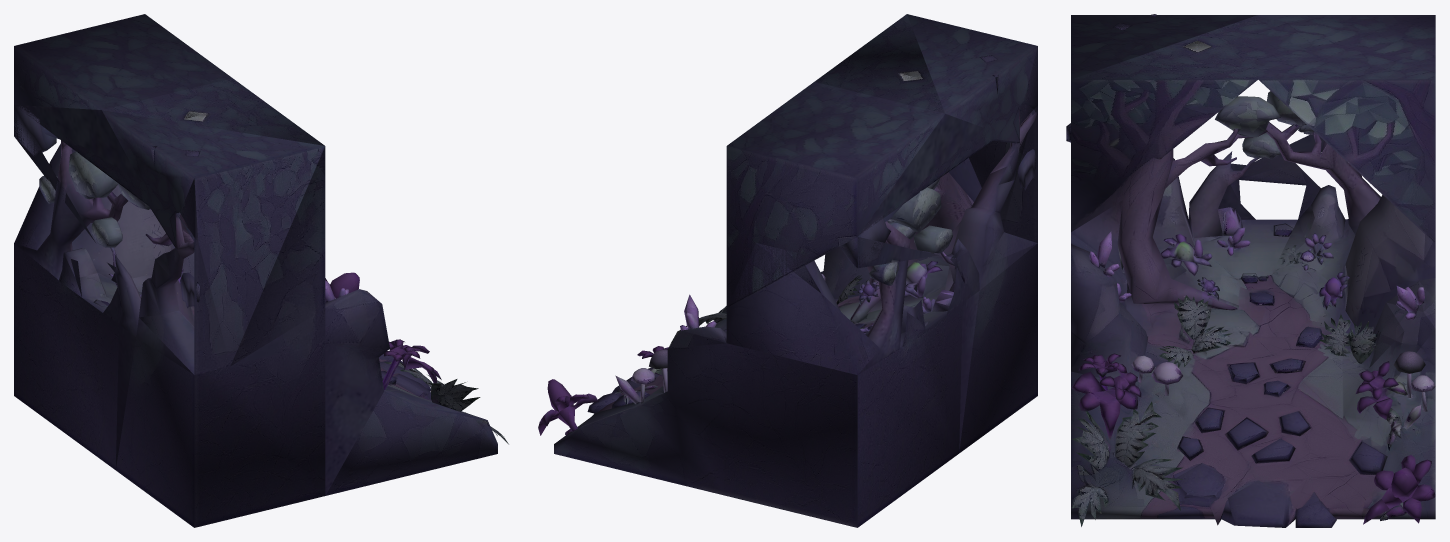
File: forest-scene.glb
3 renders of one model, left to right at view 1: azimuth 30°, elevation 25°; view 2: azimuth 150°, elevation 25°; view 3: azimuth 270°, elevation 25°, orthographic.
Visible parts, largest first — view 1: tripo_part_20, tripo_part_73, tripo_part_7, tripo_part_19, tripo_part_4, tripo_part_35, tripo_part_37, tripo_part_52, tripo_part_0, tripo_part_106, tripo_part_101, tripo_part_11 (+2 smaller); view 2: tripo_part_20, tripo_part_15, tripo_part_73, tripo_part_35, tripo_part_37, tripo_part_4, tripo_part_2, tripo_part_7, tripo_part_19, tripo_part_52, tripo_part_1, tripo_part_11 (+3 smaller); view 3: tripo_part_20, tripo_part_7, tripo_part_15, tripo_part_2, tripo_part_19, tripo_part_73, tripo_part_4, tripo_part_0, tripo_part_71, tripo_part_52, tripo_part_1, tripo_part_9 (+33 smaller).
Boxes of the visible parts, x1,y1,x2,y2 form: tripo_part_20: [14, 14, 325, 527]; tripo_part_73: [20, 109, 324, 365]; tripo_part_7: [83, 272, 497, 495]; tripo_part_19: [325, 289, 389, 495]; tripo_part_4: [14, 140, 127, 280]; tripo_part_35: [14, 105, 140, 242]; tripo_part_37: [115, 260, 194, 469]; tripo_part_52: [103, 254, 140, 336]; tripo_part_0: [382, 339, 441, 389]; tripo_part_106: [59, 253, 111, 303]; tripo_part_101: [180, 178, 198, 371]; tripo_part_11: [91, 217, 122, 247]; tripo_part_20: [721, 14, 1037, 527]; tripo_part_15: [554, 326, 857, 527]; tripo_part_73: [862, 14, 1037, 233]; tripo_part_35: [840, 114, 984, 268]; tripo_part_37: [945, 166, 1037, 451]; tripo_part_4: [858, 187, 941, 374]; tripo_part_2: [850, 172, 972, 323]; tripo_part_7: [645, 263, 949, 386]; tripo_part_19: [823, 221, 887, 298]; tripo_part_52: [946, 239, 979, 314]; tripo_part_1: [538, 379, 598, 435]; tripo_part_11: [914, 225, 952, 253]; tripo_part_20: [1071, 15, 1435, 332]; tripo_part_7: [1071, 219, 1355, 525]; tripo_part_15: [1228, 329, 1435, 527]; tripo_part_2: [1072, 128, 1277, 310]; tripo_part_19: [1071, 244, 1147, 390]; tripo_part_73: [1071, 15, 1257, 79]; tripo_part_4: [1266, 91, 1380, 234]; tripo_part_0: [1071, 353, 1141, 441]; tripo_part_71: [1227, 480, 1305, 527]; tripo_part_52: [1188, 151, 1255, 237]; tripo_part_1: [1363, 455, 1435, 524]; tripo_part_9: [1215, 96, 1280, 137].
Size of the model in its own units: 0.9843 by 1 by 0.9452.
126 materials, 126 textured.
